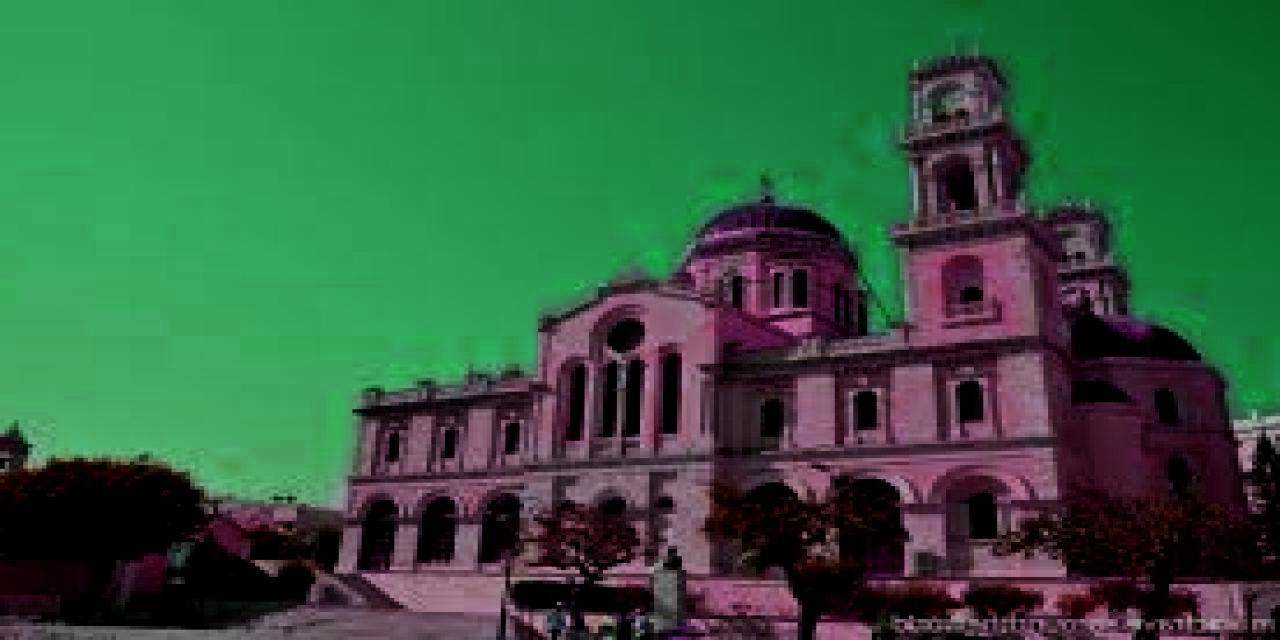Agios Minas: (326, 46, 1262, 579)
